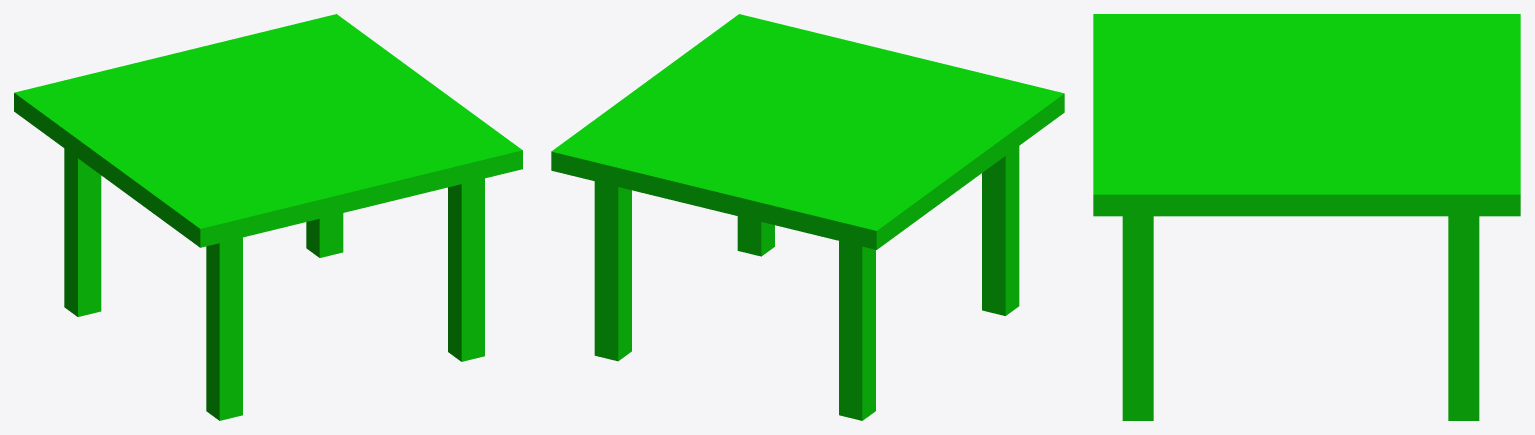
The model's file is table.fbx.
3 views of the same model, side by side, from view 1: azimuth 30°, elevation 25°; view 2: azimuth 150°, elevation 25°; view 3: azimuth 270°, elevation 25° (orthographic). The views are drawn at different scales.
Parts seen in each view (by area): view 1: pCube202; view 2: pCube202; view 3: pCube202.
Boxes of the visible parts, x1=… form: pCube202: x1=14, y1=14, x2=522, y2=420; pCube202: x1=551, y1=14, x2=1064, y2=420; pCube202: x1=1093, y1=14, x2=1520, y2=420.
Bounding box in the file's own units: 341 × 211 × 341.
